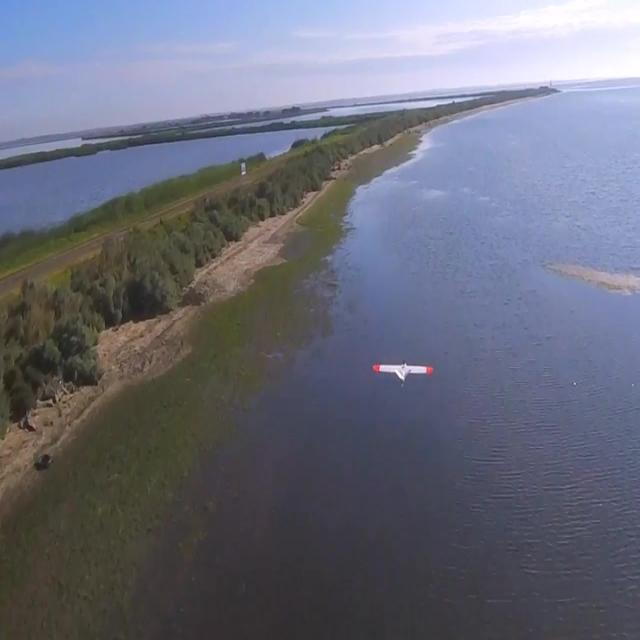iha: (372, 358, 434, 385)
